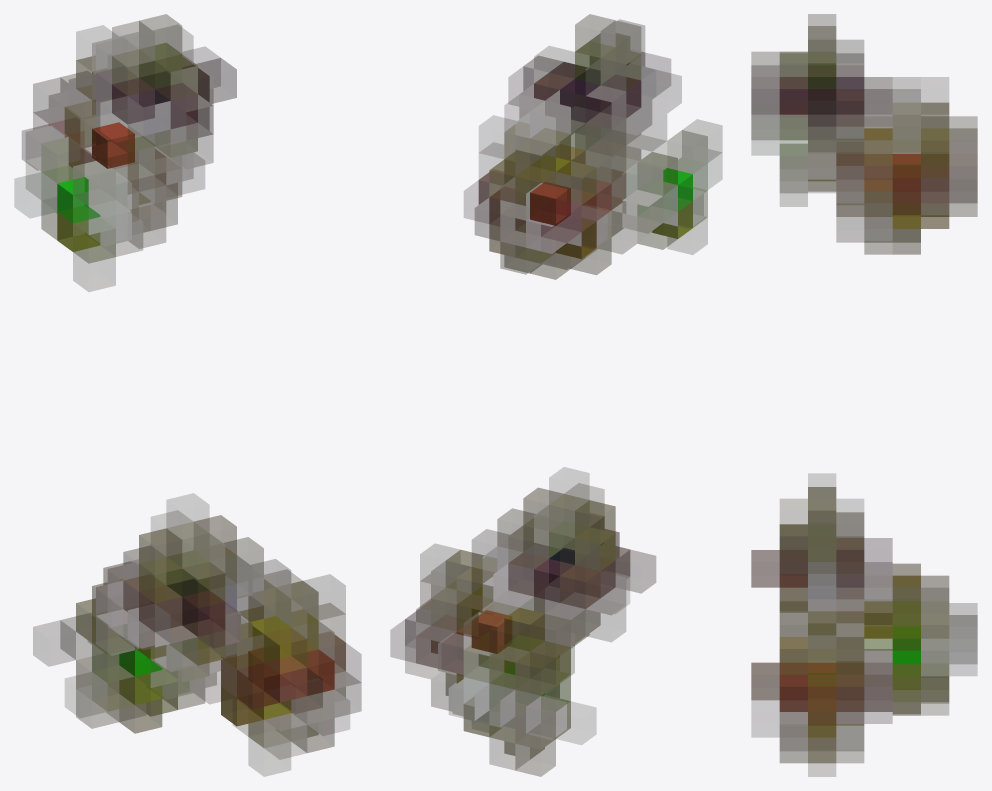
File: iter_5.obj
3 renders of one model, left to right at view 1: azimuth 30°, elevation 25°; view 2: azimuth 150°, elevation 25°; view 3: azimuth 270°, elevation 25°, orthographic. The views are drawn at different scales.
Visible parts, largest first — view 1: iter_5; view 2: iter_5; view 3: iter_5.
Boxes of the visible parts, x1,y1,x2,y2 form: iter_5: (15, 14, 361, 776); iter_5: (390, 14, 722, 776); iter_5: (751, 14, 977, 776).
Size of the model in its own units: 1.1 by 2.7 by 0.8.
